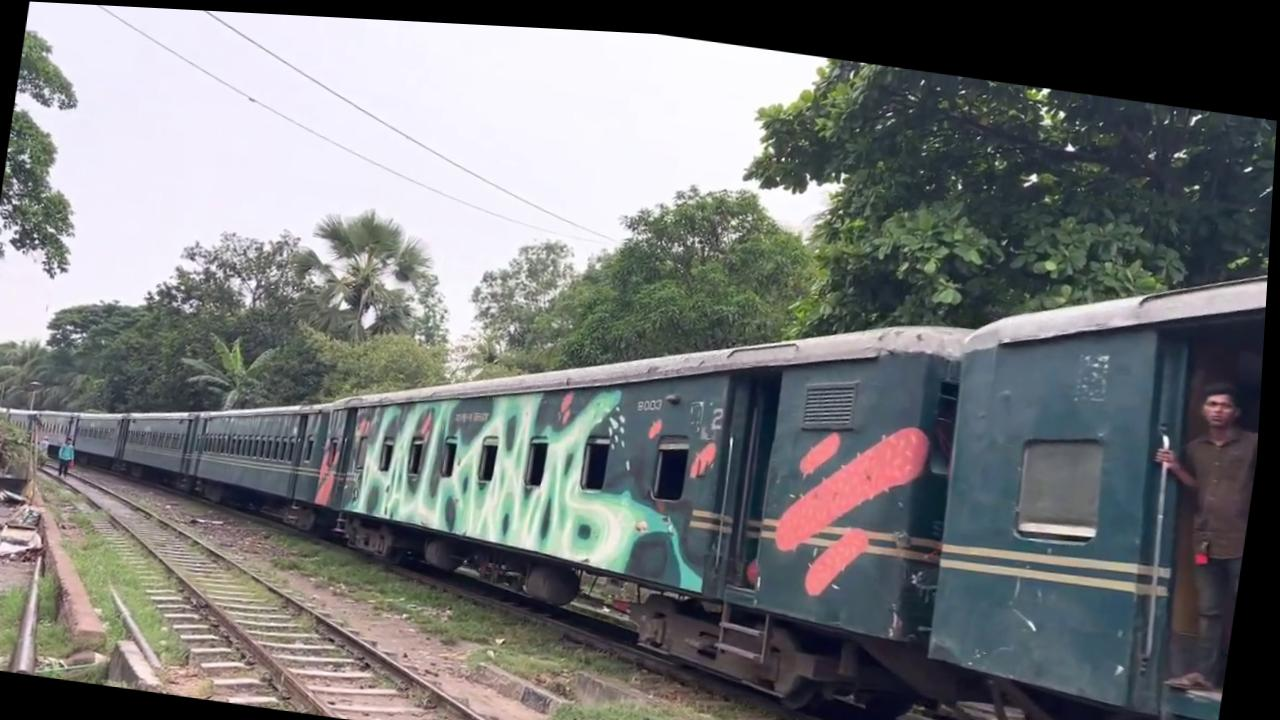Fence: (1127, 357, 1266, 681), (60, 434, 83, 477)
Garbage: (1131, 408, 1189, 649)
Motorcycle: (11, 451, 560, 720)
Potted-plant: (0, 96, 1276, 720)
Railroad-crossing: (528, 154, 831, 395), (281, 193, 449, 349), (460, 220, 587, 376)
